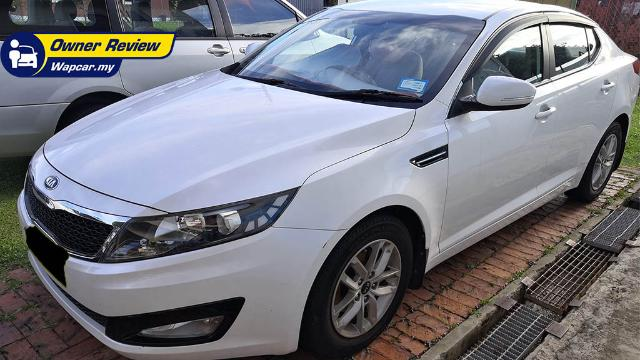kia: (16, 0, 640, 360)
